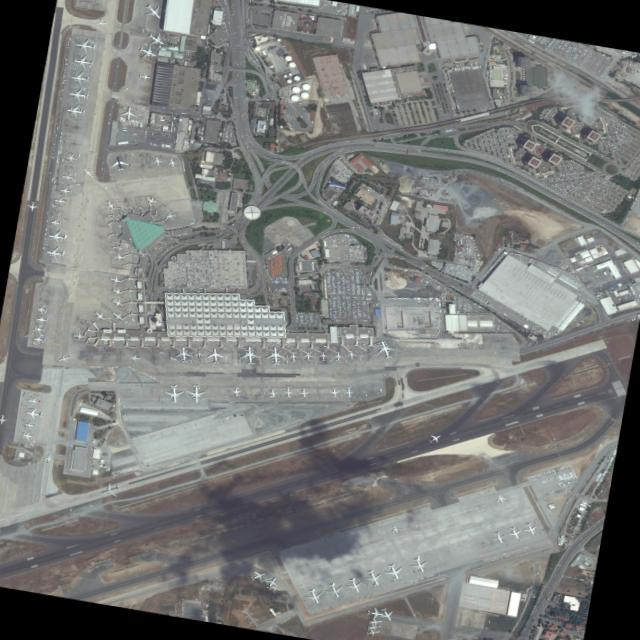large-vehicle: (534, 325, 540, 328), (487, 302, 491, 306), (50, 178, 54, 182), (173, 358, 178, 361), (526, 317, 529, 321), (340, 13, 346, 15), (170, 357, 173, 361), (159, 352, 164, 354), (225, 399, 230, 401), (485, 301, 488, 304), (557, 330, 560, 333), (403, 268, 407, 270), (169, 342, 173, 344), (411, 269, 414, 271), (475, 248, 478, 250), (475, 252, 478, 254), (543, 336, 546, 338), (548, 334, 551, 336), (463, 235, 465, 238), (341, 12, 346, 13), (398, 136, 400, 138), (324, 4, 326, 6), (415, 270, 418, 271), (338, 10, 341, 11), (460, 238, 463, 239), (466, 235, 467, 238), (470, 236, 471, 239), (472, 236, 473, 239), (477, 254, 480, 255), (477, 255, 480, 256), (469, 236, 470, 238)
plane: (140, 0, 168, 23), (142, 29, 170, 50), (96, 480, 125, 500), (134, 41, 160, 63), (381, 562, 408, 583), (373, 340, 400, 361), (406, 555, 433, 575), (300, 586, 327, 606), (322, 580, 347, 601), (361, 568, 387, 588), (238, 346, 262, 366), (343, 576, 368, 595), (118, 104, 140, 125), (163, 384, 186, 404), (265, 346, 288, 366), (71, 53, 96, 71), (73, 37, 97, 55), (187, 384, 208, 404), (68, 86, 90, 105), (44, 244, 66, 263), (64, 103, 87, 121), (69, 69, 91, 87), (205, 347, 227, 365), (173, 346, 195, 364), (108, 156, 131, 173), (261, 574, 282, 592), (377, 606, 398, 623), (47, 228, 67, 245), (489, 530, 510, 546), (247, 568, 269, 583), (520, 521, 540, 537), (505, 526, 525, 541), (79, 166, 98, 181), (425, 431, 444, 446), (24, 407, 44, 421), (366, 606, 385, 620), (102, 198, 120, 212), (109, 296, 127, 310), (109, 309, 127, 323), (107, 274, 125, 287), (108, 285, 126, 298), (56, 352, 74, 365), (143, 194, 160, 207), (364, 628, 383, 639), (91, 310, 108, 322), (257, 574, 274, 586), (61, 171, 76, 184), (493, 493, 509, 505), (388, 525, 404, 537), (163, 210, 178, 222), (150, 156, 165, 168), (27, 396, 43, 407), (282, 386, 295, 399), (54, 195, 68, 207), (165, 158, 179, 170), (328, 386, 342, 398), (41, 453, 55, 465), (26, 201, 39, 213), (288, 351, 301, 363), (333, 351, 346, 363), (138, 71, 152, 82), (21, 431, 35, 442), (72, 331, 86, 342), (366, 623, 383, 632), (367, 618, 384, 627), (64, 153, 79, 163), (94, 18, 109, 28), (112, 252, 127, 262), (49, 217, 62, 228), (298, 387, 311, 398), (266, 387, 279, 398), (33, 324, 46, 335), (129, 353, 142, 364), (343, 387, 356, 398), (317, 351, 330, 362), (302, 351, 315, 362), (60, 186, 74, 196), (32, 335, 46, 345), (35, 315, 49, 325), (23, 420, 37, 430), (230, 386, 242, 397), (346, 350, 358, 361), (36, 305, 48, 315), (193, 351, 206, 360), (0, 414, 8, 426)
storage-tank: (241, 203, 264, 222), (289, 94, 300, 103), (300, 91, 310, 100), (291, 86, 301, 94), (301, 83, 311, 91), (287, 62, 296, 69), (284, 55, 293, 62), (293, 75, 301, 82), (286, 79, 292, 84), (283, 74, 288, 79), (288, 72, 293, 77), (255, 47, 260, 52), (280, 125, 283, 129), (277, 39, 281, 42)
